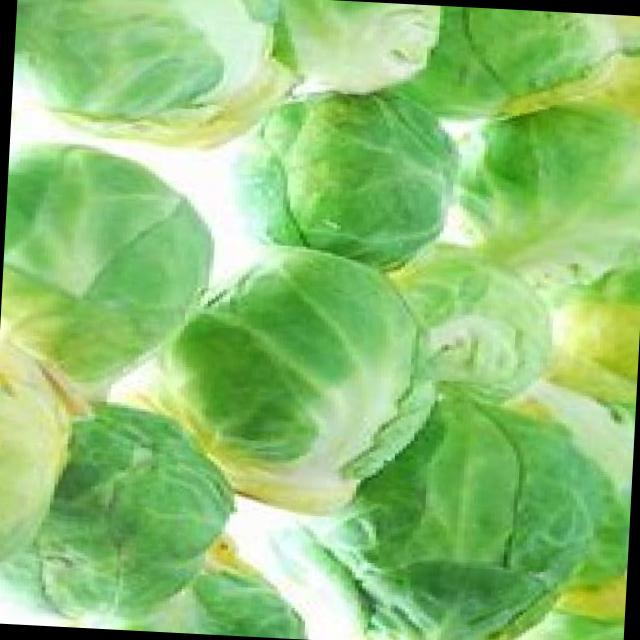cabbage: (160, 249, 434, 518), (0, 130, 220, 384), (0, 395, 232, 630), (250, 83, 463, 280), (458, 90, 640, 289), (393, 246, 565, 401)
